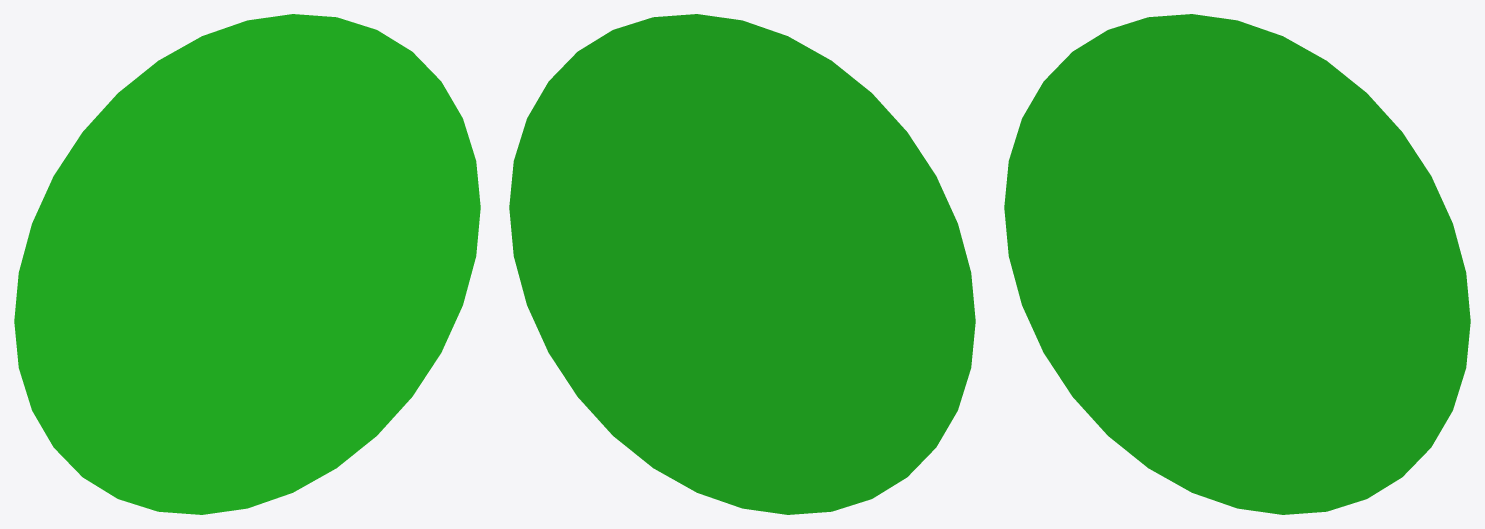
The model's file is sceneCircle.gltf.
The picture shows the model from 3 angles, left to right: view 1: azimuth 30°, elevation 25°; view 2: azimuth 150°, elevation 25°; view 3: azimuth 330°, elevation 25°; orthographic projection.
Visible parts, largest first — view 1: Circle; view 2: Circle; view 3: Circle.
Boxes of the visible parts, bbox=[...] form: Circle: bbox=[14, 14, 480, 514]; Circle: bbox=[509, 14, 975, 514]; Circle: bbox=[1004, 14, 1470, 514].
Size of what is drawn, in the model's own units: 2 by 2 by 0.
